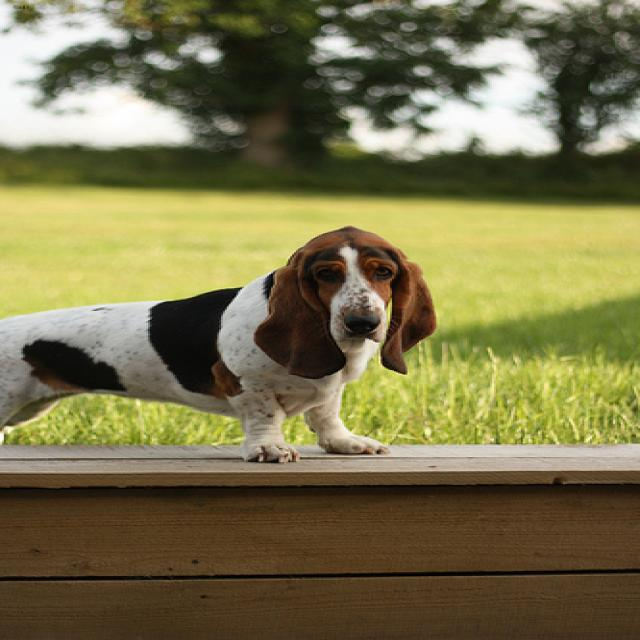dog-basset_hound: (2, 214, 448, 470)
